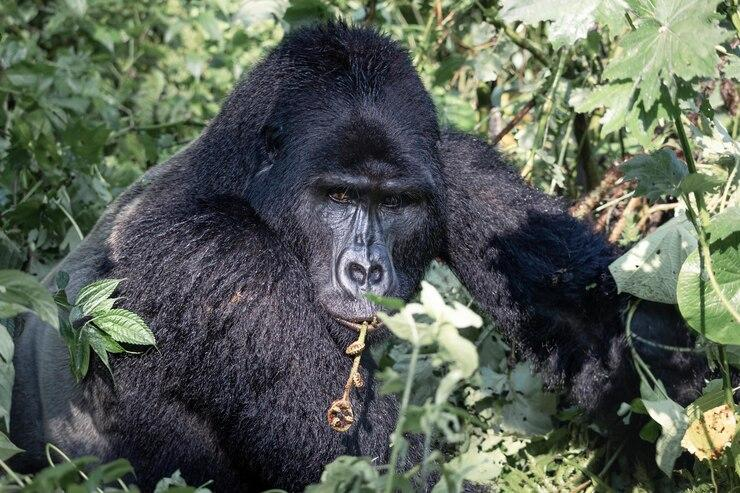gorille_Autres: (24, 4, 668, 493)
